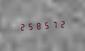eight: (34, 20, 41, 31)
five: (25, 21, 32, 31), (42, 20, 49, 30)
seven: (50, 19, 57, 29)
two: (17, 21, 24, 32), (58, 18, 65, 29)
